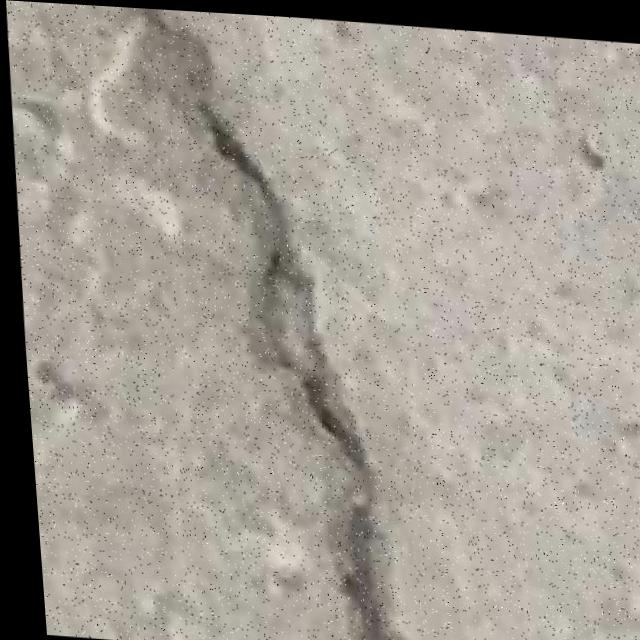Crack: (116, 5, 434, 640)
